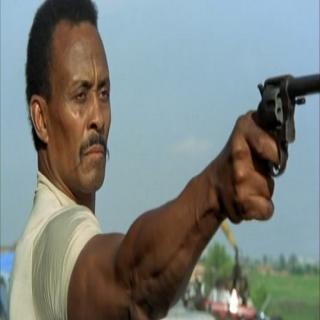gun: (226, 59, 320, 228)
